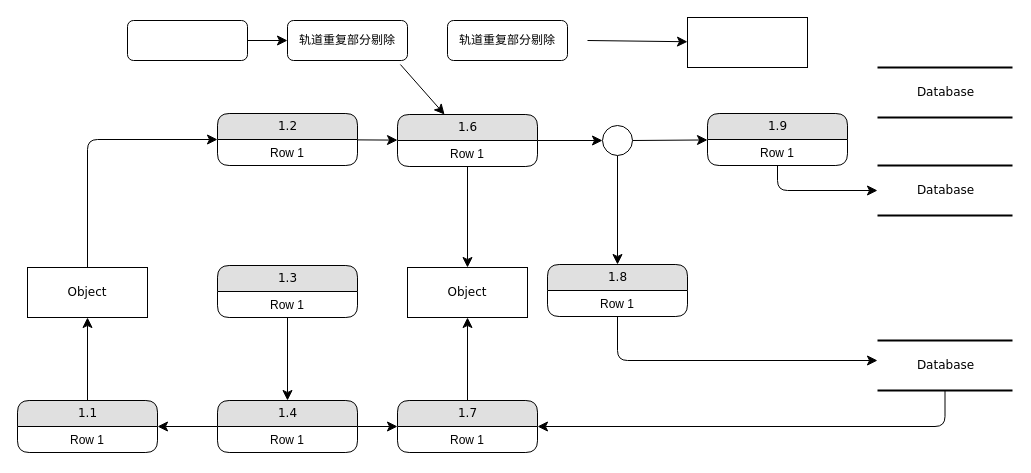
This 1031x473 diagram has some shape labels left out. The shapes that lost their labels are listed below. From the top down, each one's centre as x and y in pixels, then its label:
At point 187,40: "GDR数据读取".
At point 747,42: "Output".
